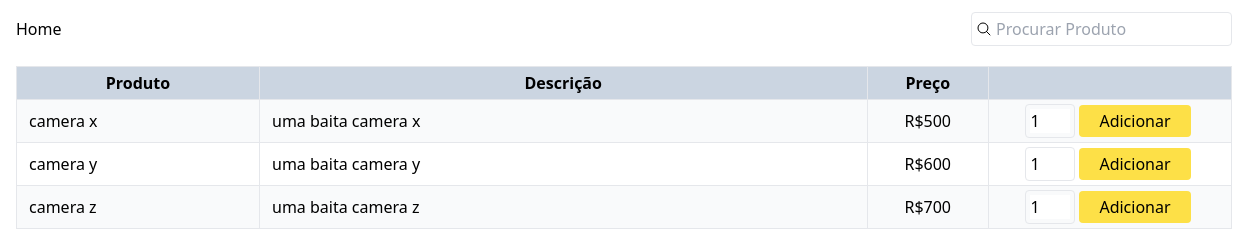
Test: check if search works
The width and height of the screenshot is (1249, 246).
Expected: the number of buttons "Adicionar" is 3, left=1079, top=105, right=1191, bottom=137; left=1079, top=148, right=1191, bottom=180; left=1079, top=191, right=1191, bottom=223
Type "camera x" into the search field with placeholder "Procurar Produto" at (1110, 29), box left=992, top=17, right=1227, bottom=41
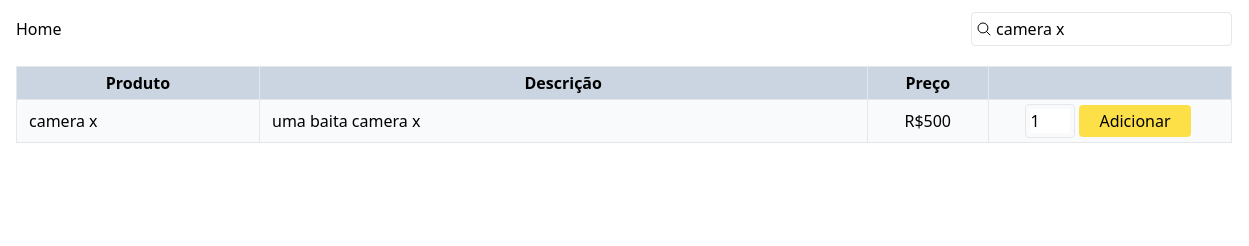
Now the number of buttons "Adicionar" is 1, box left=1079, top=105, right=1191, bottom=137
